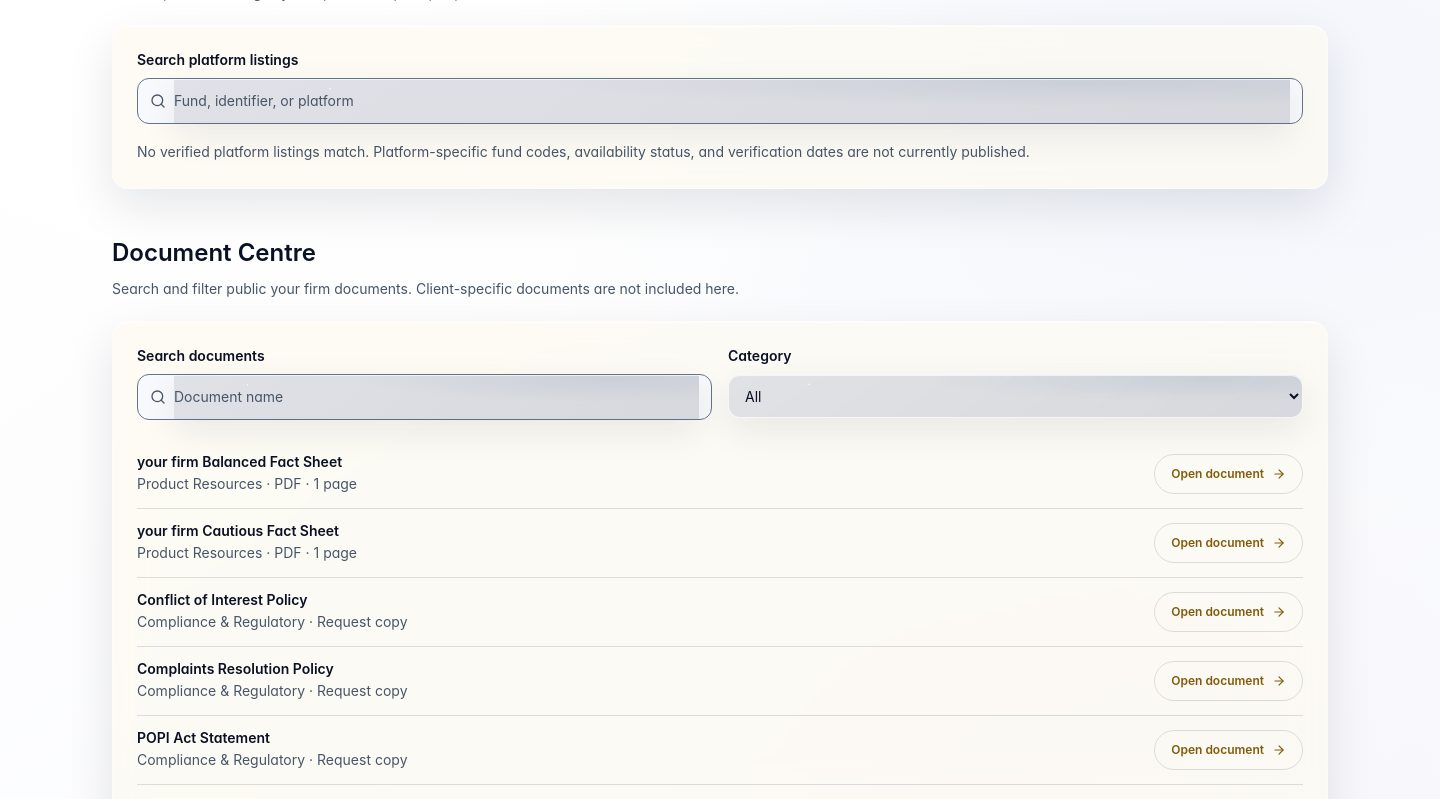
Test: AdvisorPortalContent › filters the public document catalogue by category
(page scrolled)
Select "Compliance & Regulatory" in the dropdown labelled "Category" at (1016, 396), box [728,374,1303,418]
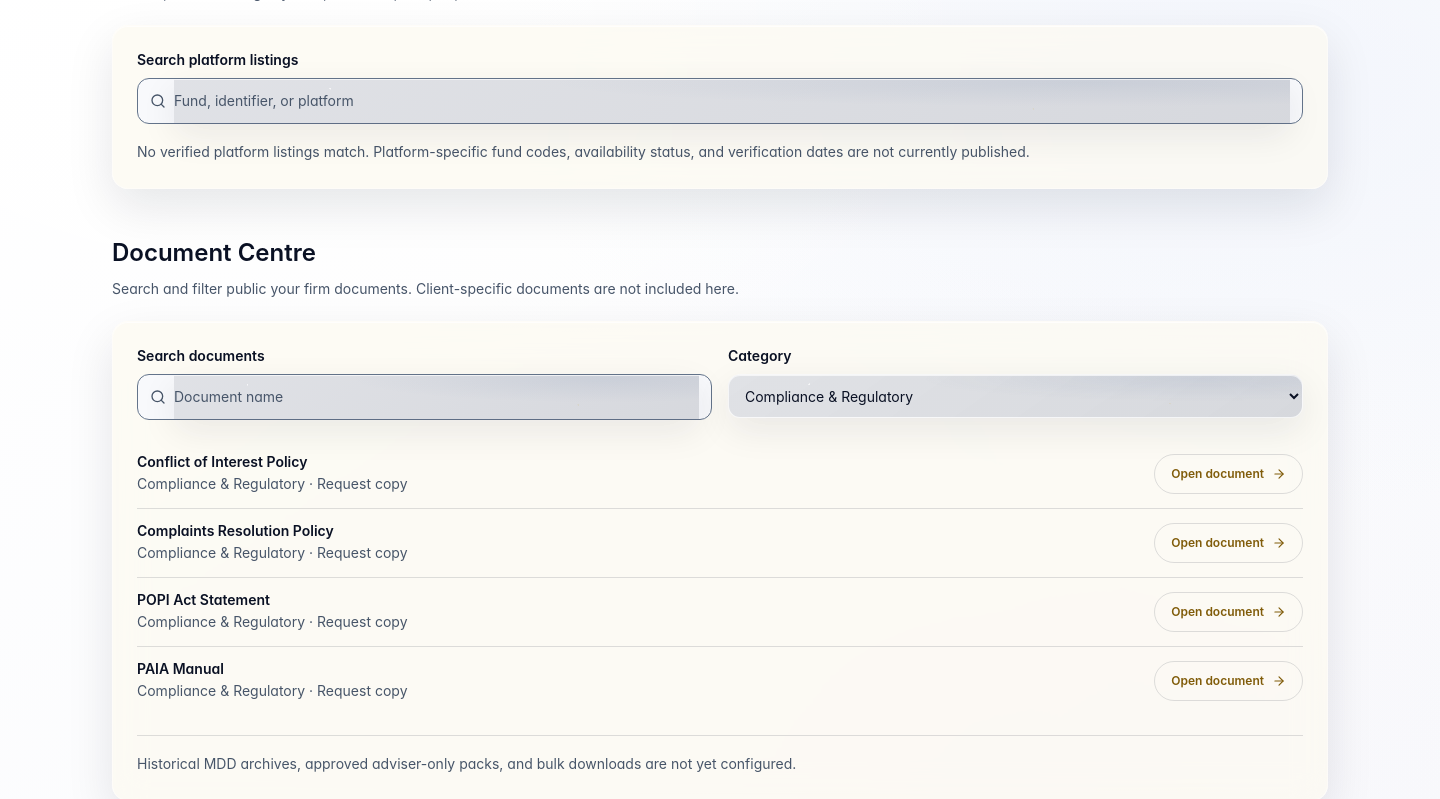
Expected: the text "Conflict of Interest Policy" is shown, [137,453,307,470]
Now the text "your firm Balanced Fact Sheet" is gone
